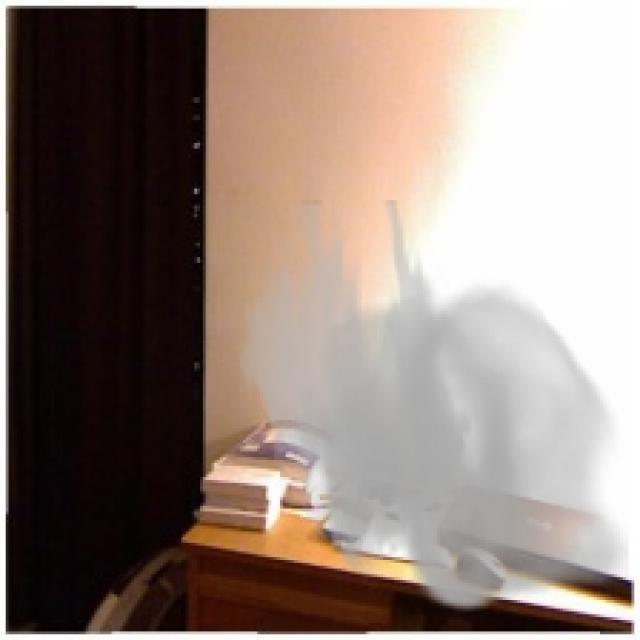Smoke: (234, 199, 629, 612)
